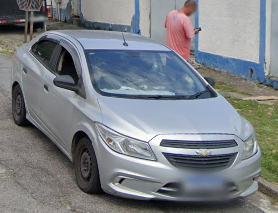car: (9, 29, 262, 204)
